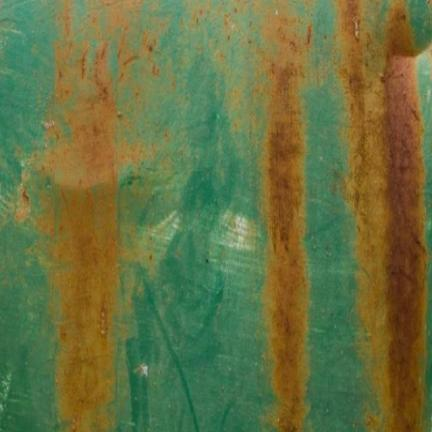karat: (337, 0, 431, 431), (46, 40, 119, 431), (266, 10, 309, 431), (386, 56, 426, 431)
